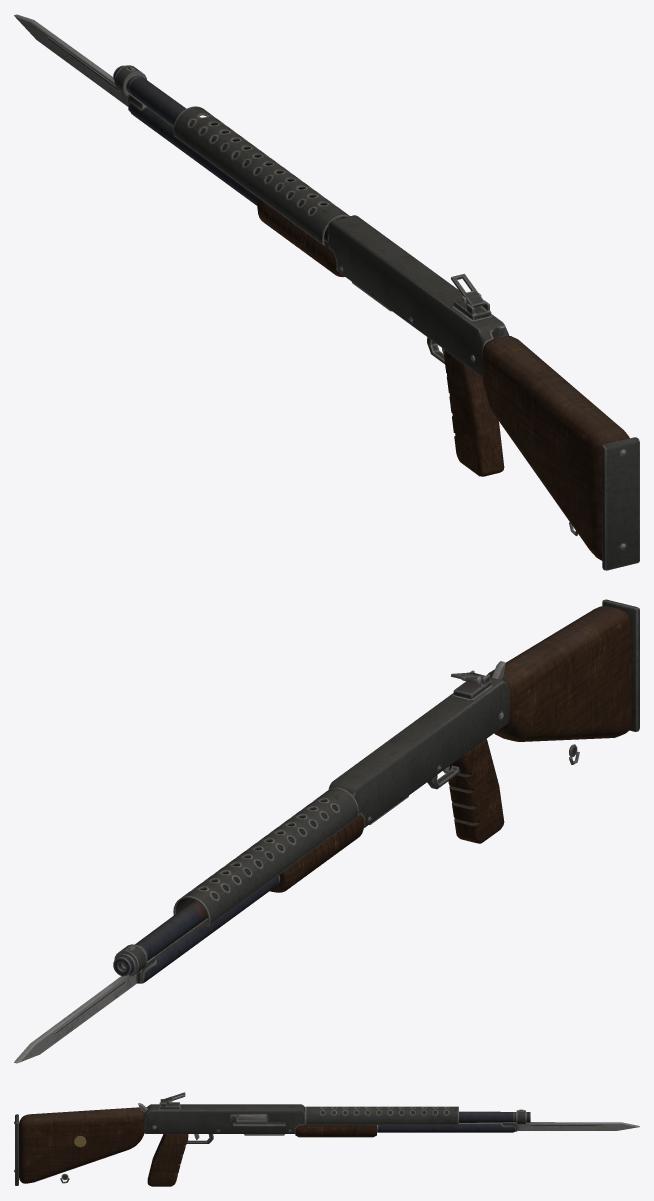
The model's file is footman_shotgun.glb.
3 renders of one model, top to bottom at view 1: azimuth 30°, elevation 25°; view 2: azimuth 150°, elevation 25°; view 3: azimuth 270°, elevation 25°, orthographic. The views are drawn at different scales.
Parts seen in each view (by area): view 1: footman_shotgun; view 2: footman_shotgun; view 3: footman_shotgun.
Part boxes in pixels (box(x1,y1,x2,y2)): footman_shotgun: box(14, 14, 639, 570); footman_shotgun: box(14, 599, 639, 1063); footman_shotgun: box(14, 1092, 639, 1186).
Size of the model in its own units: 0.0445 by 0.1955 by 1.22.
1 material, 1 textured.
